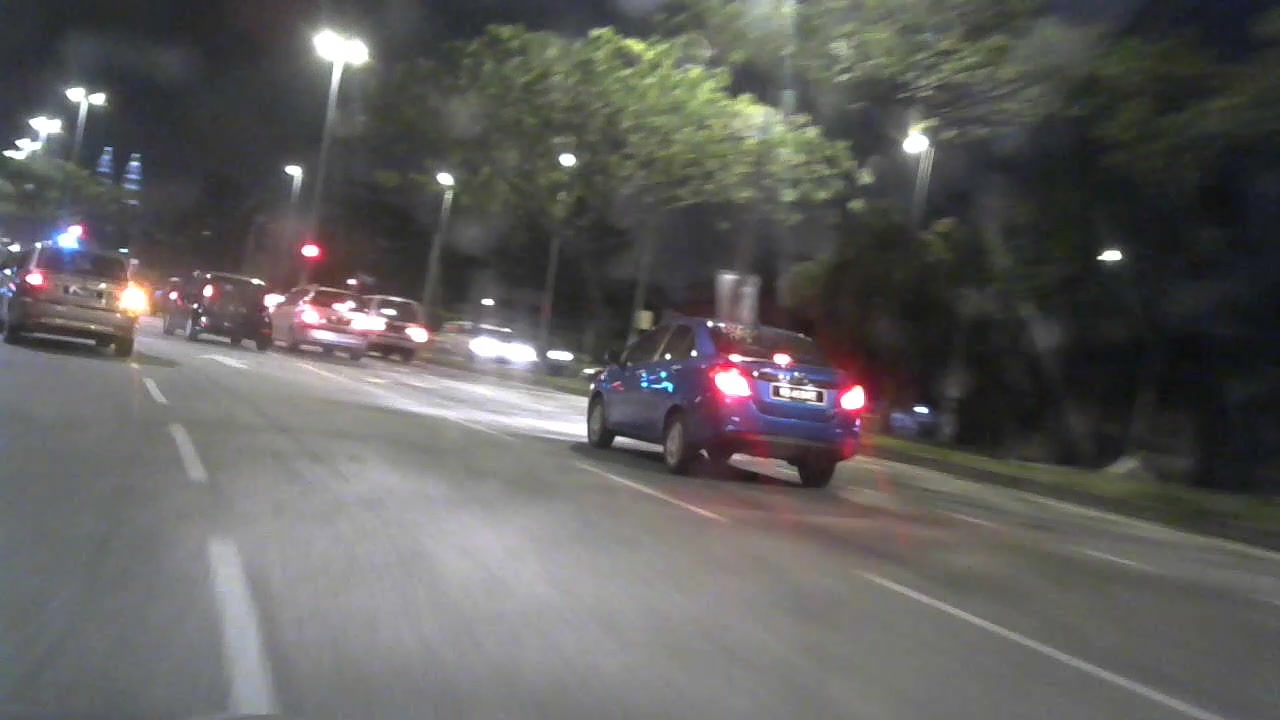Car: (583, 312, 860, 494), (14, 237, 152, 366), (169, 263, 283, 356), (274, 280, 385, 365), (442, 313, 537, 371), (369, 287, 440, 362)
